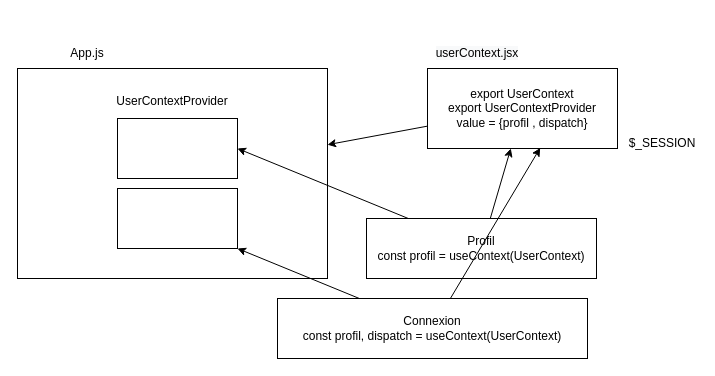
The diagram is 715 pixels wide and 376 high, and some of its shapes have lost their labels. The centre of each missing label's shape, as x and y in pixels:
"Connexion" belongs at point 177,218.
"Profil" belongs at point 177,148.
